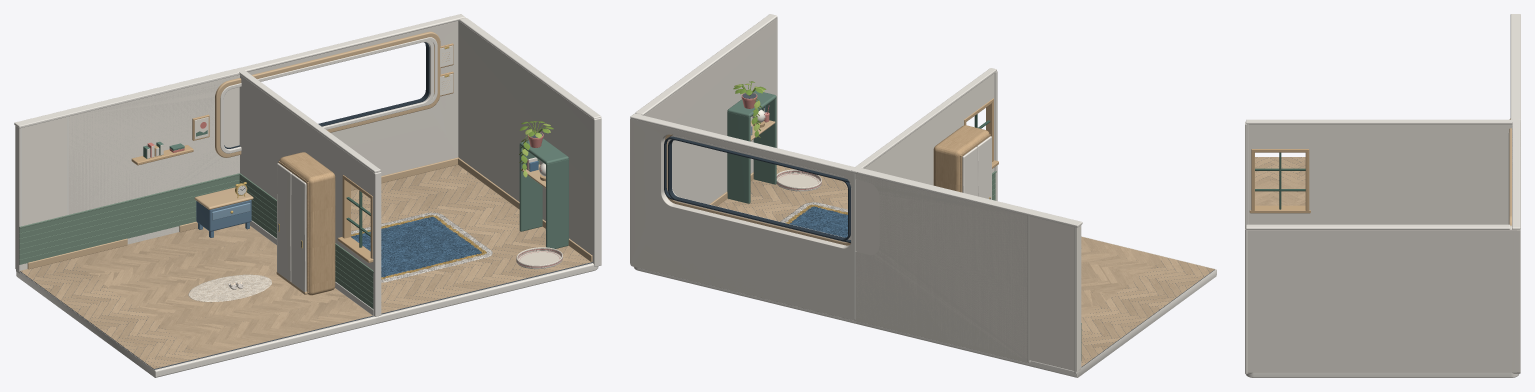
File: open-cabin.glb
3 views of the same model, side by side, from view 1: azimuth 30°, elevation 25°; view 2: azimuth 150°, elevation 25°; view 3: azimuth 270°, elevation 25° (orthographic). The views are drawn at different scales.
Parts seen in each view (by area): view 1: Duplex_UpperShell, Duplex_LowerShell, Floor_Parquet_Bedroom, Shell, Floor_Parquet, Floor_Parquet_Upper, Rugs, Wardrobe_Case, Shelf_Gallery, Duplex_BedroomBase, Duplex_DeckBase, Nightstand (+3 smaller); view 2: Shell, Duplex_UpperShell, Duplex_LowerShell, Floor_Parquet_Bedroom, Shelf_Gallery, Floor_Parquet, Wardrobe_Case, Duplex_BedroomBase, Rugs, Floor_Parquet_Upper, Wardrobe_SlidingDoor, Duplex_DeckBase; view 3: Duplex_LowerShell, Duplex_UpperShell, Floor_Parquet_Bedroom, Duplex_DeckBase, Shell, Floor_Parquet_Upper.
Boxes of the visible parts, bbox=[...] form: Duplex_UpperShell: bbox=[14, 67, 381, 316]; Duplex_LowerShell: bbox=[237, 14, 601, 266]; Floor_Parquet_Bedroom: bbox=[20, 223, 371, 368]; Shell: bbox=[67, 14, 594, 362]; Floor_Parquet: bbox=[351, 164, 590, 313]; Floor_Parquet_Upper: bbox=[70, 225, 372, 355]; Rugs: bbox=[351, 212, 562, 282]; Wardrobe_Case: bbox=[276, 152, 335, 295]; Shelf_Gallery: bbox=[519, 121, 568, 248]; Duplex_BedroomBase: bbox=[16, 262, 374, 377]; Duplex_DeckBase: bbox=[351, 168, 598, 323]; Nightstand: bbox=[194, 182, 253, 237]; Shell: bbox=[630, 114, 1162, 364]; Duplex_UpperShell: bbox=[851, 68, 1082, 374]; Duplex_LowerShell: bbox=[630, 14, 858, 320]; Floor_Parquet_Bedroom: bbox=[1081, 237, 1214, 366]; Shelf_Gallery: bbox=[727, 81, 776, 203]; Floor_Parquet: bbox=[717, 165, 847, 221]; Wardrobe_Case: bbox=[933, 125, 990, 196]; Duplex_BedroomBase: bbox=[859, 237, 1216, 377]; Rugs: bbox=[776, 169, 847, 237]; Floor_Parquet_Upper: bbox=[1081, 236, 1162, 316]; Wardrobe_SlidingDoor: bbox=[977, 136, 991, 199]; Duplex_DeckBase: bbox=[634, 169, 855, 323]; Duplex_LowerShell: bbox=[1245, 120, 1520, 374]; Duplex_UpperShell: bbox=[1245, 14, 1520, 225]; Floor_Parquet_Bedroom: bbox=[1255, 157, 1305, 205]; Duplex_DeckBase: bbox=[1246, 372, 1518, 377]; Shell: bbox=[1508, 38, 1520, 227]; Floor_Parquet_Upper: bbox=[1255, 180, 1305, 205].
Bounding box in the file's own units: 12.11 × 4.04 × 6.6.
Materials: 43 (5 with a texture image).
